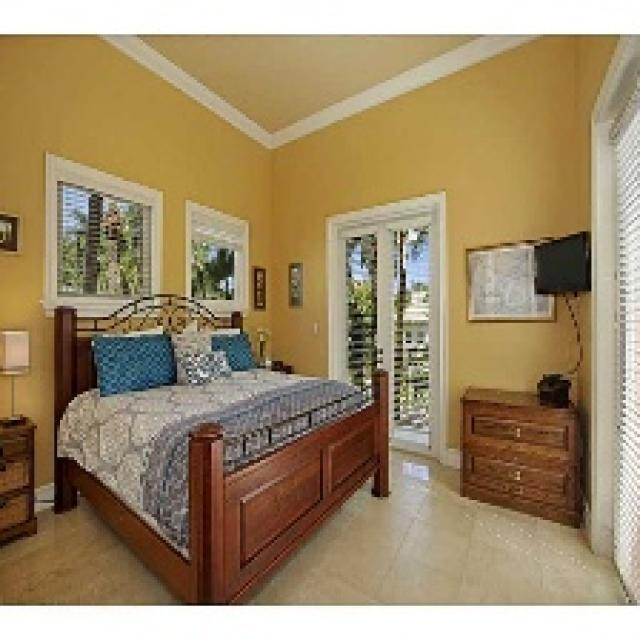Bed: (51, 291, 388, 603)
